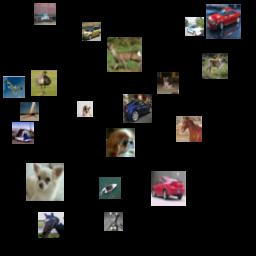automobile: (151, 171, 186, 206), (206, 4, 241, 39), (123, 94, 152, 123), (185, 17, 204, 36), (82, 22, 101, 41)
bird: (31, 70, 57, 96), (3, 76, 25, 98)
deer: (107, 37, 142, 72), (202, 53, 228, 79)
dog: (26, 163, 64, 201), (106, 128, 135, 157), (157, 72, 179, 94), (104, 212, 123, 231), (77, 101, 93, 117)
ship: (34, 3, 56, 25), (99, 177, 121, 199), (20, 102, 39, 121)
truck: (12, 122, 34, 144)
